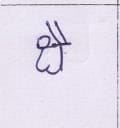ai_matra: (36, 20, 72, 42)
